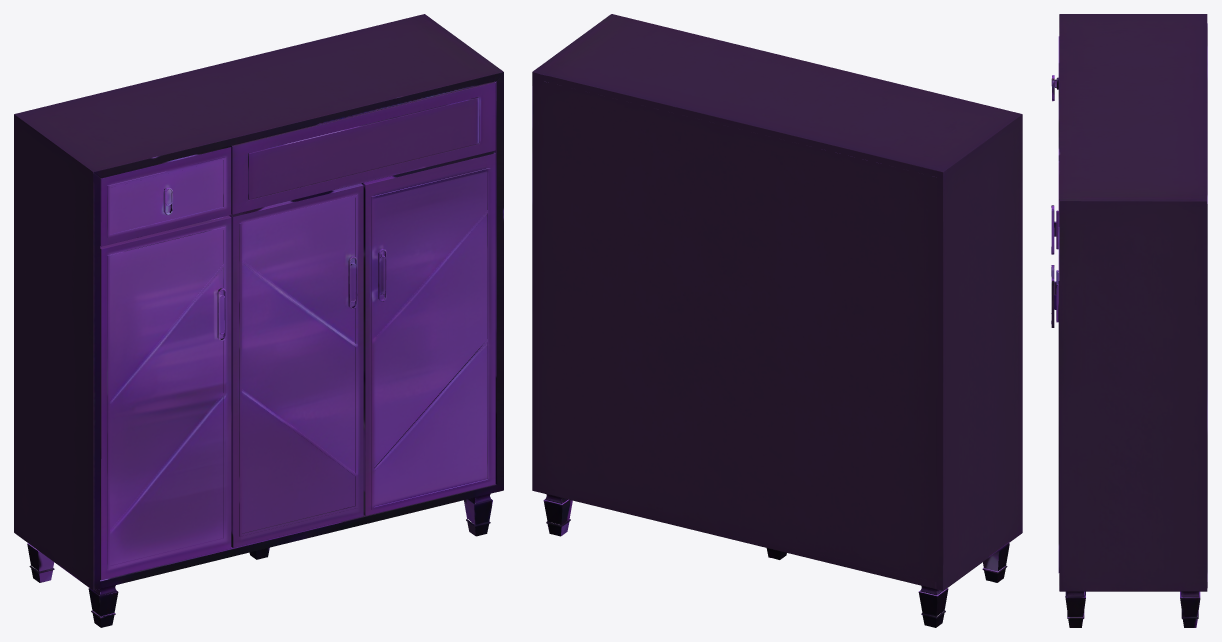
File: edited_mesh.glb
3 views of the same model, side by side, from view 1: azimuth 30°, elevation 25°; view 2: azimuth 150°, elevation 25°; view 3: azimuth 270°, elevation 25° (orthographic). The views are drawn at different scales.
Parts seen in each view (by area): view 1: solid_001_wire; view 2: solid_001_wire; view 3: solid_001_wire.
Boxes of the visible parts, box(x1,y1,x2,y2) form: solid_001_wire: box(14, 14, 503, 627); solid_001_wire: box(532, 14, 1022, 627); solid_001_wire: box(1051, 14, 1207, 627).
Size of the model in its own units: 1.27 by 1.37 by 0.4471.
Materials: 1 (1 with a texture image).
